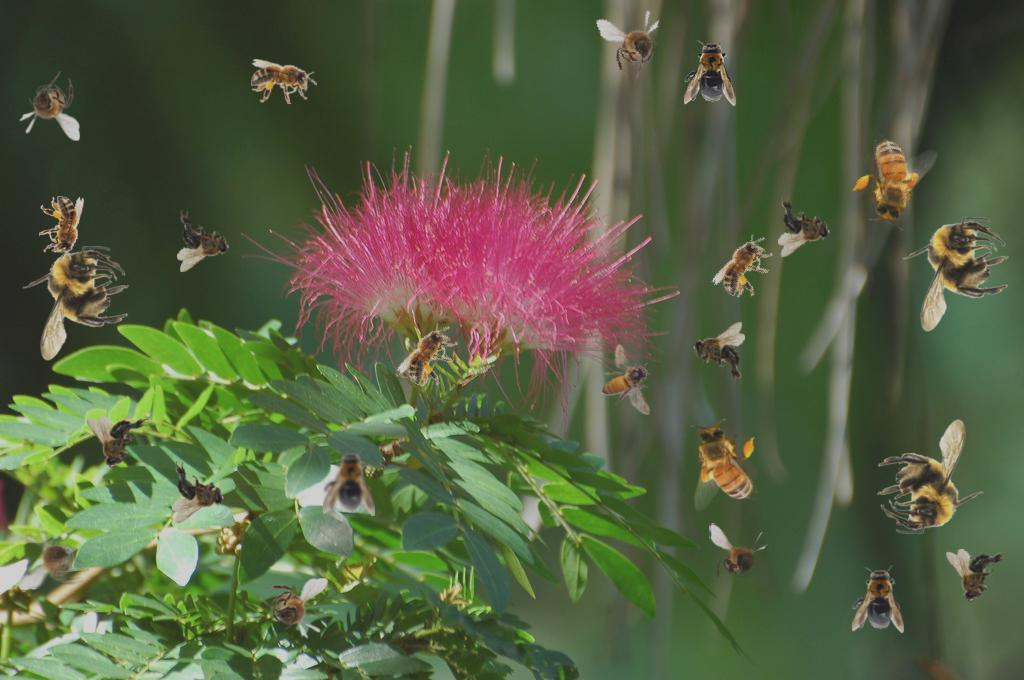Bee: (877, 419, 984, 534), (902, 217, 1009, 332), (22, 246, 129, 361), (840, 122, 944, 237), (595, 0, 676, 88), (690, 419, 758, 512), (395, 314, 467, 395), (710, 225, 782, 306), (709, 523, 770, 593), (258, 578, 328, 639), (19, 529, 89, 590), (19, 71, 80, 141), (601, 344, 651, 415), (852, 565, 904, 633), (684, 38, 736, 106), (323, 448, 375, 516), (778, 195, 831, 257), (177, 210, 230, 272), (692, 322, 745, 384), (87, 415, 149, 468), (946, 549, 1008, 602), (172, 461, 225, 523), (39, 196, 84, 262), (251, 59, 317, 104)
